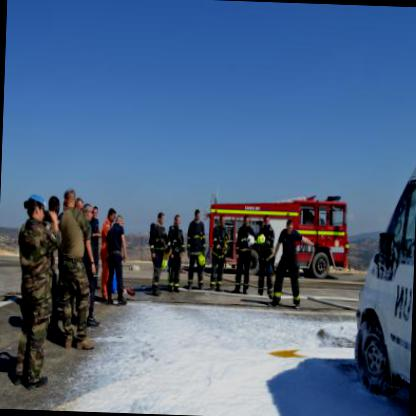car: (354, 167, 415, 401)
